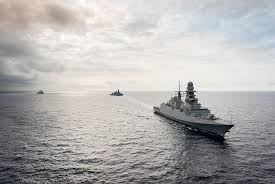Ship: (152, 82, 235, 138), (110, 90, 124, 95)
